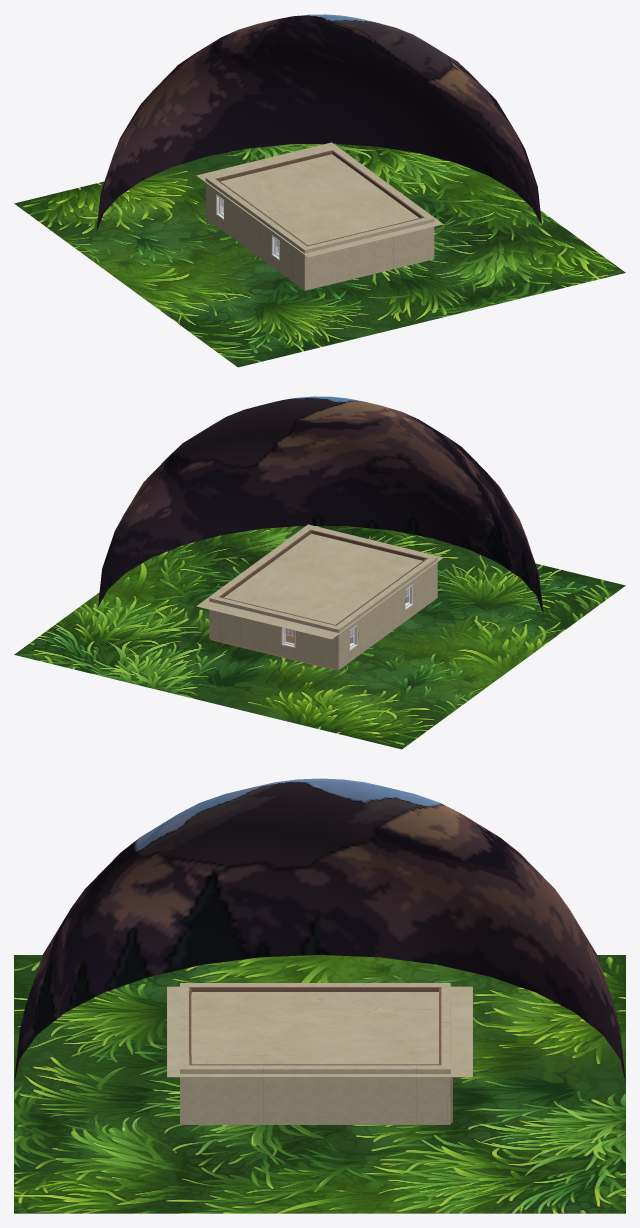
File: stage_tmp3.gltf
The picture shows the model from 3 angles, top to bottom: view 1: azimuth 30°, elevation 25°; view 2: azimuth 150°, elevation 25°; view 3: azimuth 270°, elevation 25°; orthographic projection. The views are drawn at different scales.
Parts seen in each view (by area): view 1: 球, 平面.002, Wall.005, Wall.003, Left Corner Wall.001, Right Corner Wall, Wall, Right Corner Wall.001, Window Wall.001, Wall.004, Window Wall.002; view 2: 球, 平面.002, Wall.001, Wall.003, Right Corner Wall.001, Wall, Wall.002, Wall.005, Window Wall, Left Corner Wall.001, Window Wall.001, Wall.004 (+2 smaller); view 3: 球, 平面.002, Wall, Left Corner Wall, Right Corner Wall, Wall.003, Wall.005.
Boxes of the visible parts, x1,y1,x2,y2 form: 球: [14, 14, 625, 367]; 平面.002: [196, 142, 443, 257]; Wall.005: [312, 221, 412, 287]; Wall.003: [226, 191, 276, 265]; Left Corner Wall.001: [292, 239, 316, 290]; Right Corner Wall: [409, 212, 434, 264]; Wall: [340, 155, 425, 216]; Right Corner Wall.001: [205, 172, 231, 224]; Window Wall.001: [214, 182, 232, 232]; Wall.004: [281, 231, 299, 281]; Window Wall.002: [270, 223, 288, 273]; 球: [14, 396, 625, 749]; 平面.002: [196, 524, 443, 639]; Wall.001: [220, 598, 282, 655]; Wall.003: [352, 580, 403, 654]; Right Corner Wall.001: [317, 621, 347, 670]; Wall: [222, 532, 307, 593]; Wall.002: [298, 617, 321, 664]; Wall.005: [325, 531, 425, 592]; Window Wall: [279, 612, 301, 660]; Left Corner Wall.001: [418, 554, 437, 606]; Window Wall.001: [340, 613, 358, 663]; Wall.004: [407, 564, 425, 614]; 球: [14, 778, 625, 1213]; 平面.002: [167, 986, 472, 1077]; Wall: [202, 1064, 416, 1124]; Left Corner Wall: [417, 1061, 450, 1124]; Right Corner Wall: [180, 1055, 204, 1124]; Wall.003: [273, 983, 395, 991]; Wall.005: [180, 990, 191, 1055].
Bounding box in the file's own units: 400 × 200 × 400.
Materials: 15 (10 with a texture image).
